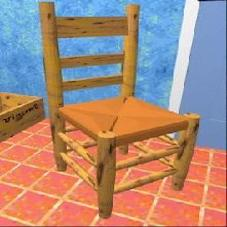chair: (18, 0, 210, 209)
